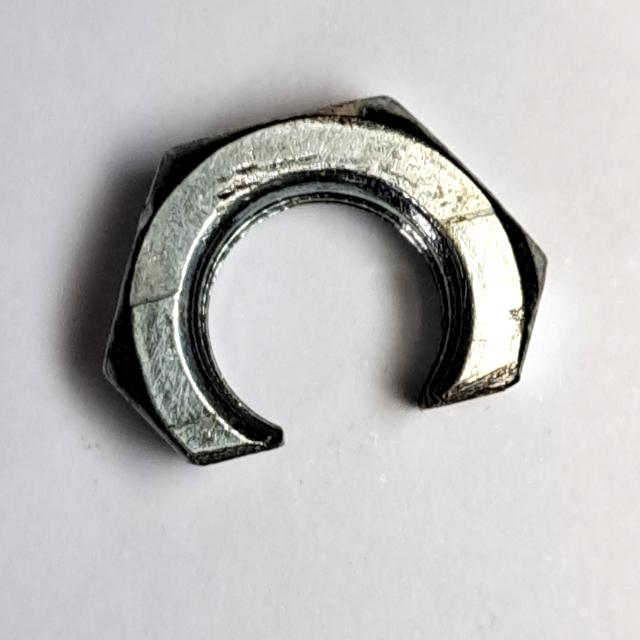Fracture: (90, 85, 557, 478)
